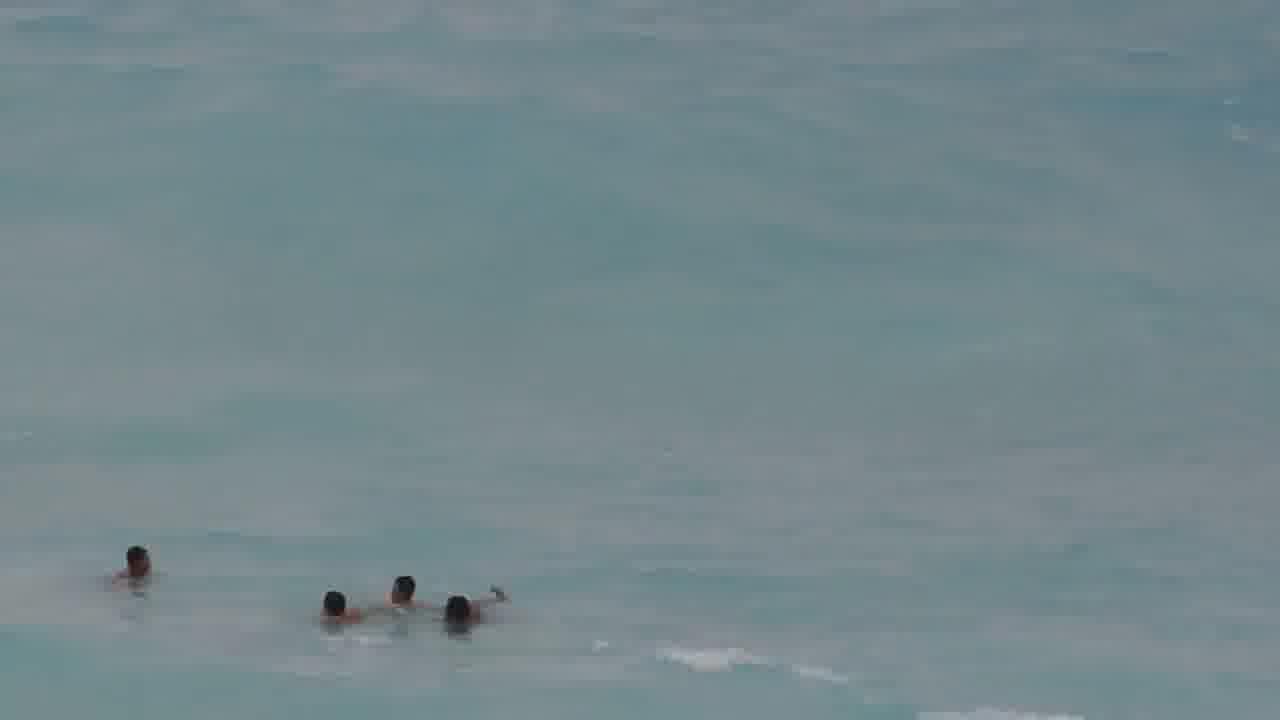human: (110, 533, 154, 616), (307, 571, 355, 641), (394, 548, 425, 628), (441, 585, 489, 630)
